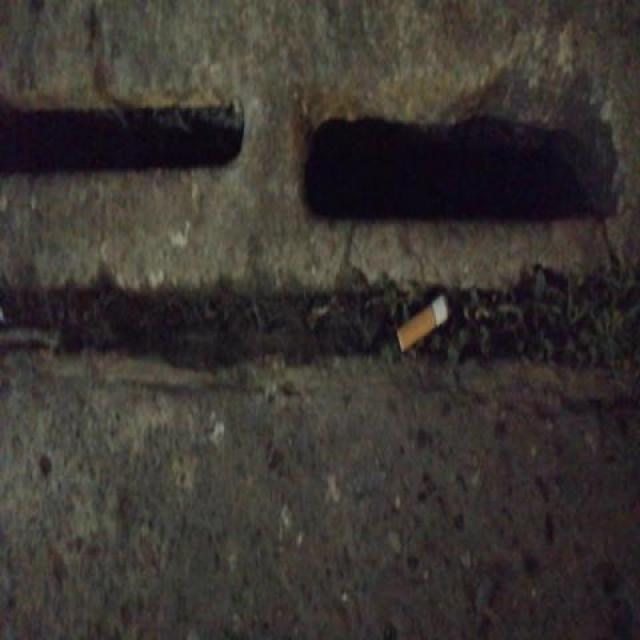non-organic waste: (392, 288, 452, 356)
